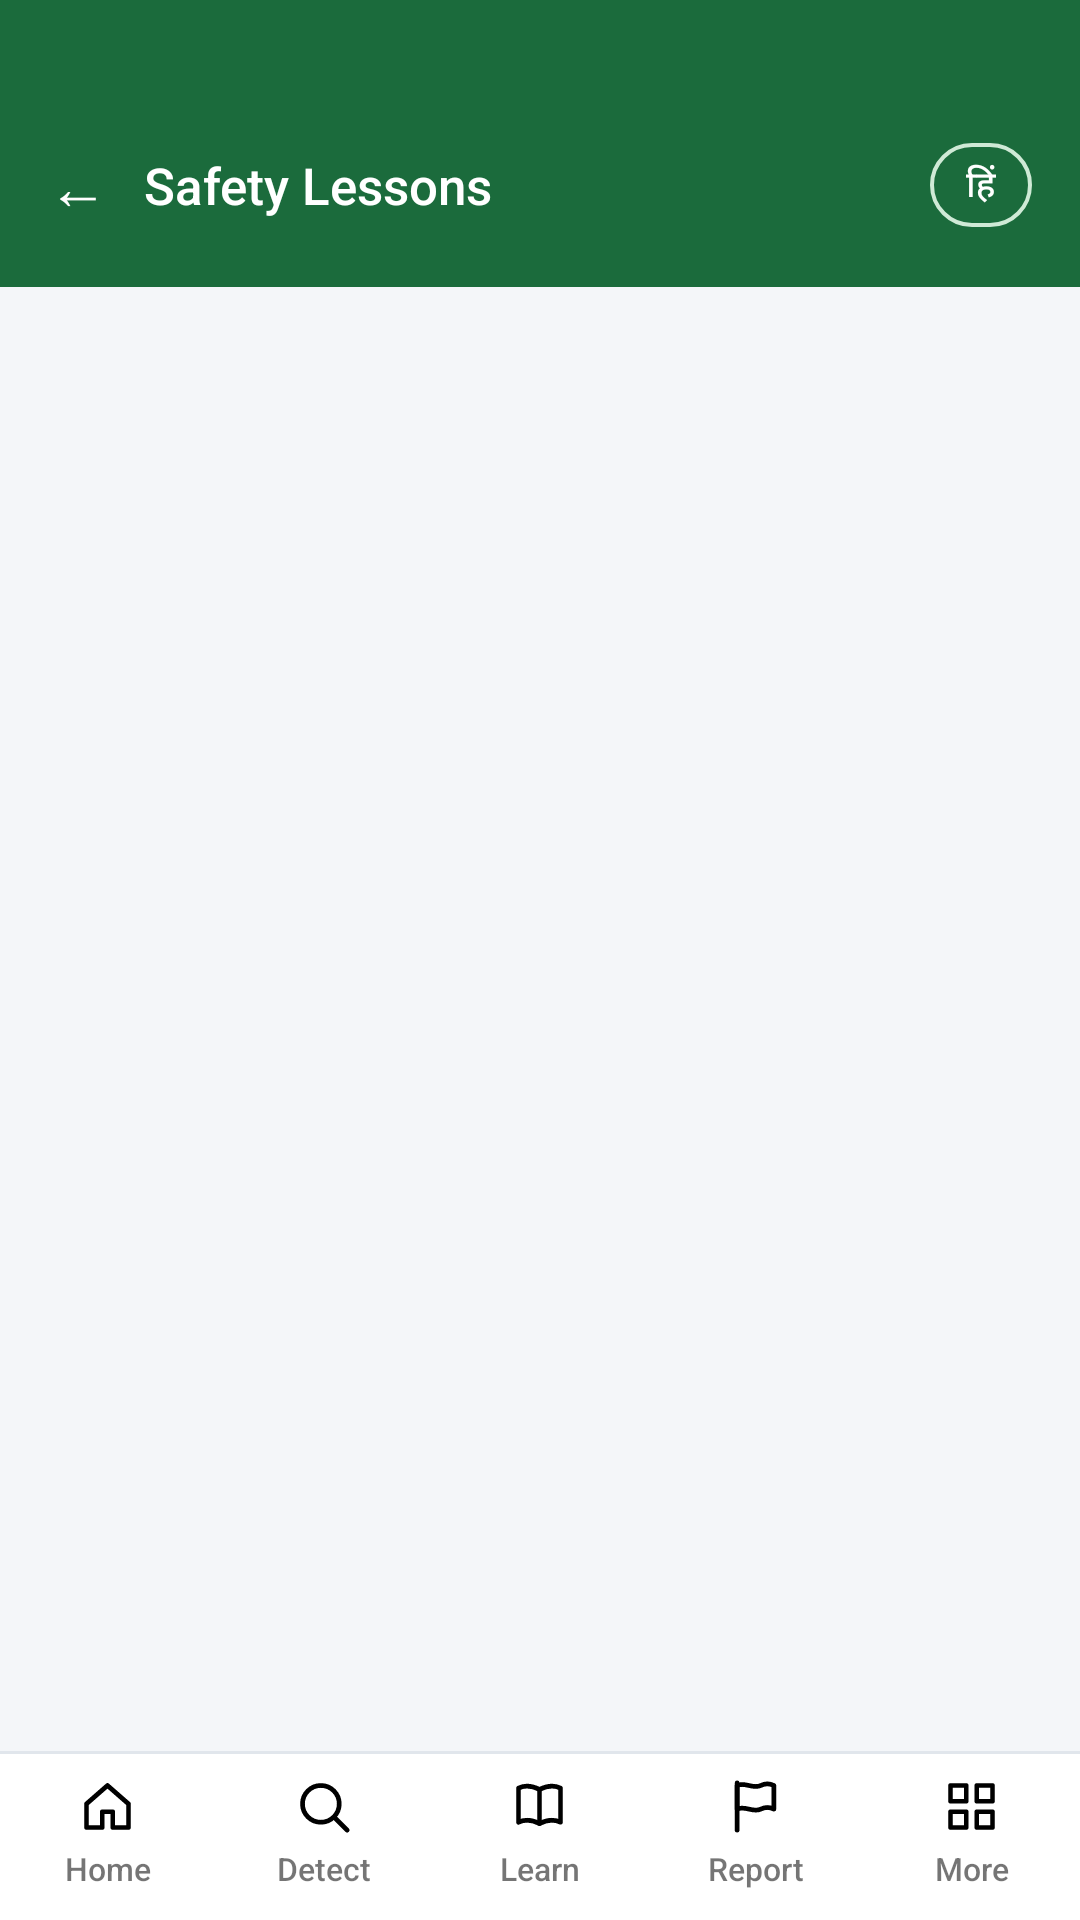

Screen size 1080x1920. Icon name, then its box in pixels as {"x1": x1, "y1": y1, "x2": x2, "y2": y2}:
book: {"x1": 516, "y1": 1783, "x2": 563, "y2": 1826}
flag: {"x1": 734, "y1": 1780, "x2": 777, "y2": 1833}
grid: {"x1": 948, "y1": 1783, "x2": 995, "y2": 1830}
search: {"x1": 300, "y1": 1783, "x2": 350, "y2": 1833}
